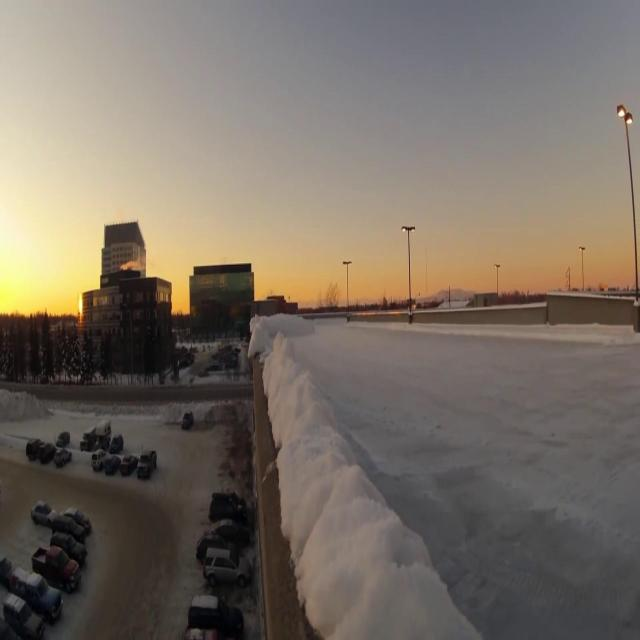Fire: (119, 262, 146, 270)
